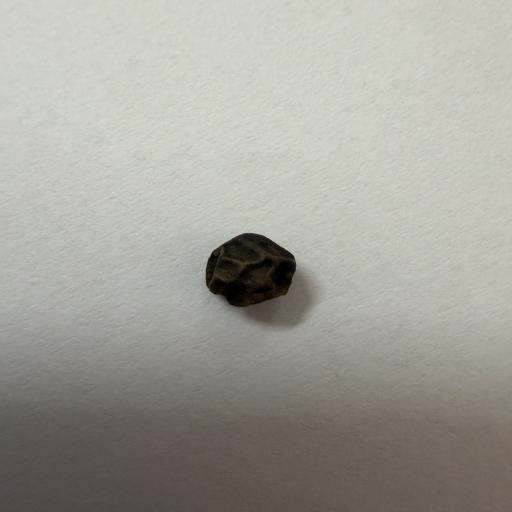Black_pepper: (172, 207, 332, 334)
